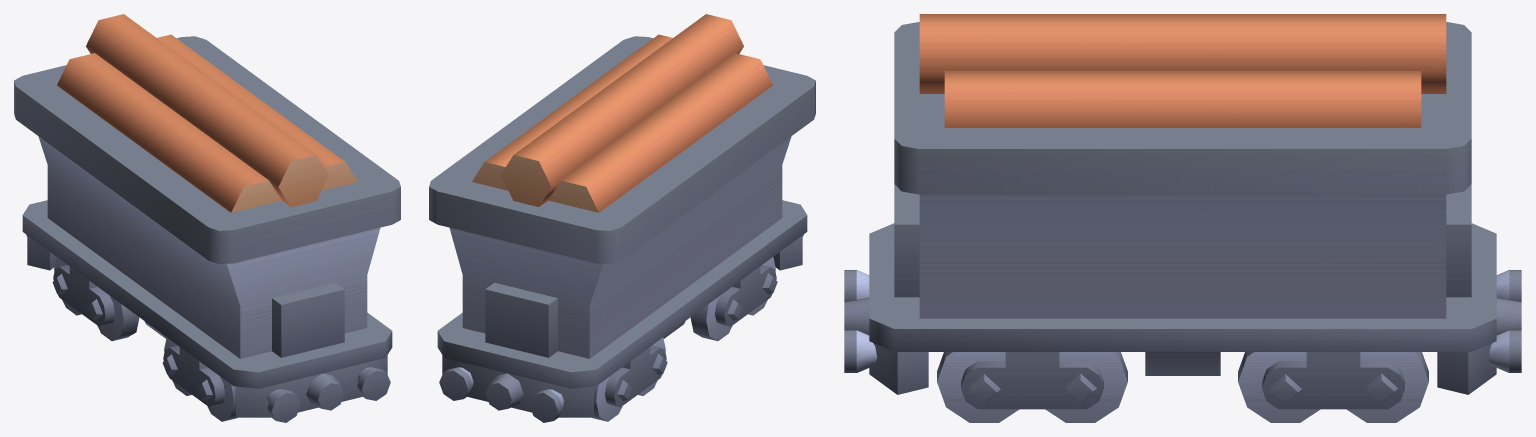
The model's file is train-carriage-wood.glb.
3 renders of one model, left to right at view 1: azimuth 30°, elevation 25°; view 2: azimuth 150°, elevation 25°; view 3: azimuth 270°, elevation 25°, orthographic. The views are drawn at different scales.
Parts seen in each view (by area): view 1: train-carriage-wood, cargo, wheels-back, wheels-front; view 2: train-carriage-wood, cargo, wheels-front, wheels-back; view 3: train-carriage-wood, cargo, wheels-front, wheels-back.
Boxes of the visible parts, x1,y1,x2,y2 form: train-carriage-wood: (14,36,400,422); cargo: (57,14,357,212); wheels-back: (52,257,139,341); wheels-front: (162,337,237,421); train-carriage-wood: (429,36,815,422); cargo: (472,14,772,212); wheels-front: (690,257,777,341); wheels-back: (592,337,667,421); train-carriage-wood: (844,22,1521,394); cargo: (919,14,1446,127); wheels-front: (937,352,1127,422); wheels-back: (1238,352,1428,422).
Size of the model in its own units: 1.2 by 1.57 by 2.7.
1 material, 1 textured.
